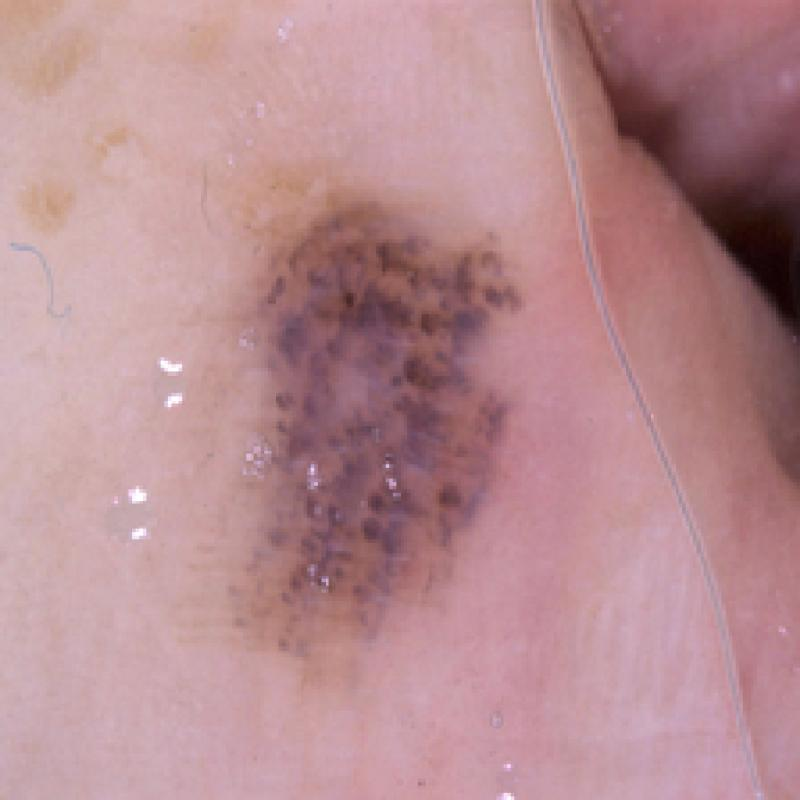benign: (156, 150, 571, 724)
